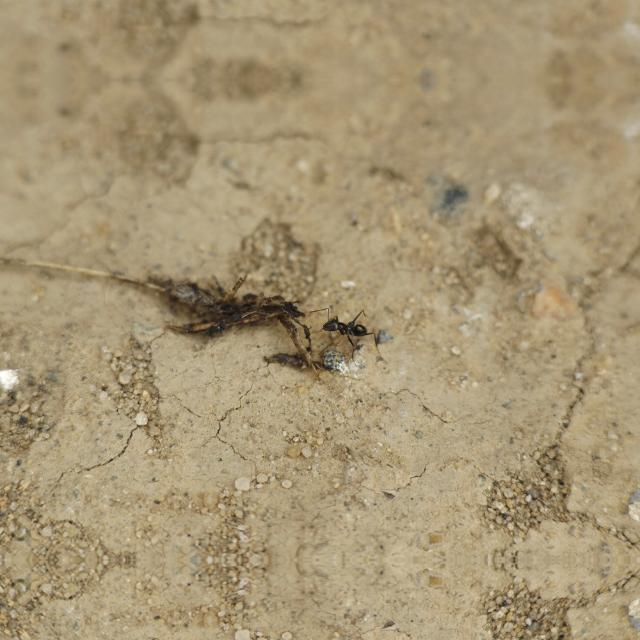Cataglyphis: (317, 310, 378, 348)
